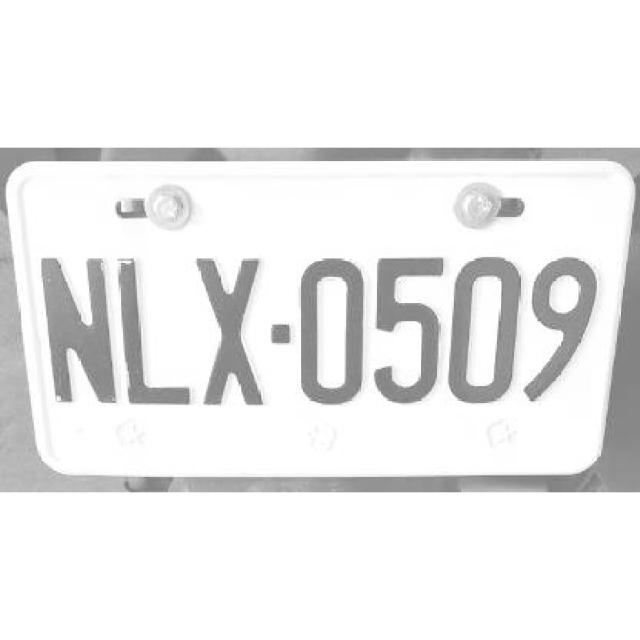-: (268, 316, 292, 350)
0: (445, 249, 523, 409), (292, 249, 368, 409)
5: (371, 251, 446, 409)
9: (522, 252, 600, 403)
L: (115, 252, 191, 410)
N: (37, 248, 117, 406)
X: (192, 247, 263, 418)
